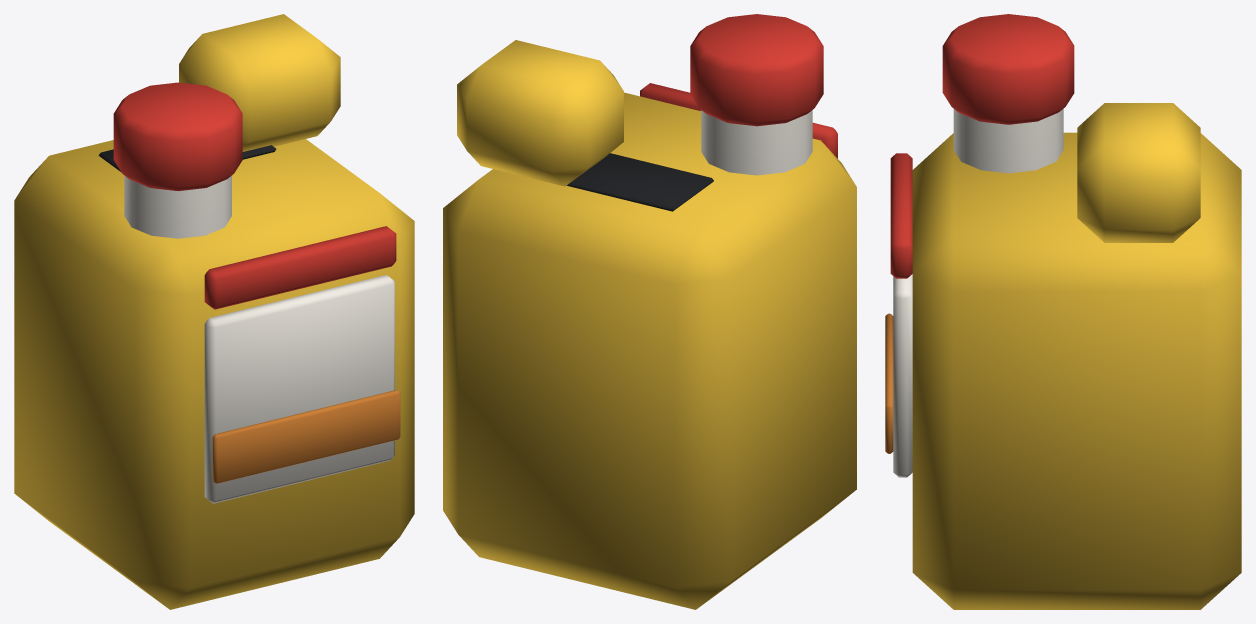
File: SM_OilJug_Fryer_01.glb
3 renders of one model, left to right at view 1: azimuth 30°, elevation 25°; view 2: azimuth 150°, elevation 25°; view 3: azimuth 270°, elevation 25°, orthographic. The views are drawn at different scales.
Parts seen in each view (by area): view 1: SM_OilJug_Fryer_01; view 2: SM_OilJug_Fryer_01; view 3: SM_OilJug_Fryer_01.
Boxes of the visible parts, <box> form: SM_OilJug_Fryer_01: <box>14,14,414,609</box>; SM_OilJug_Fryer_01: <box>443,14,856,609</box>; SM_OilJug_Fryer_01: <box>885,14,1241,609</box>.
Bounding box in the file's own units: 0.24 × 0.39 × 0.26.
1 material, 1 textured.
